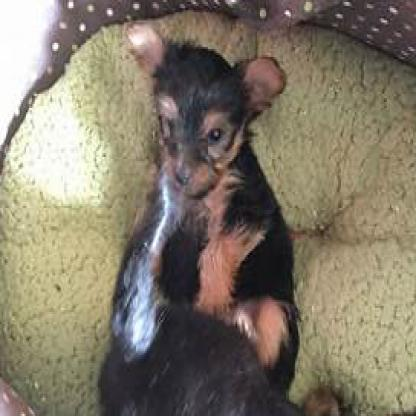dog: (125, 22, 300, 394)
